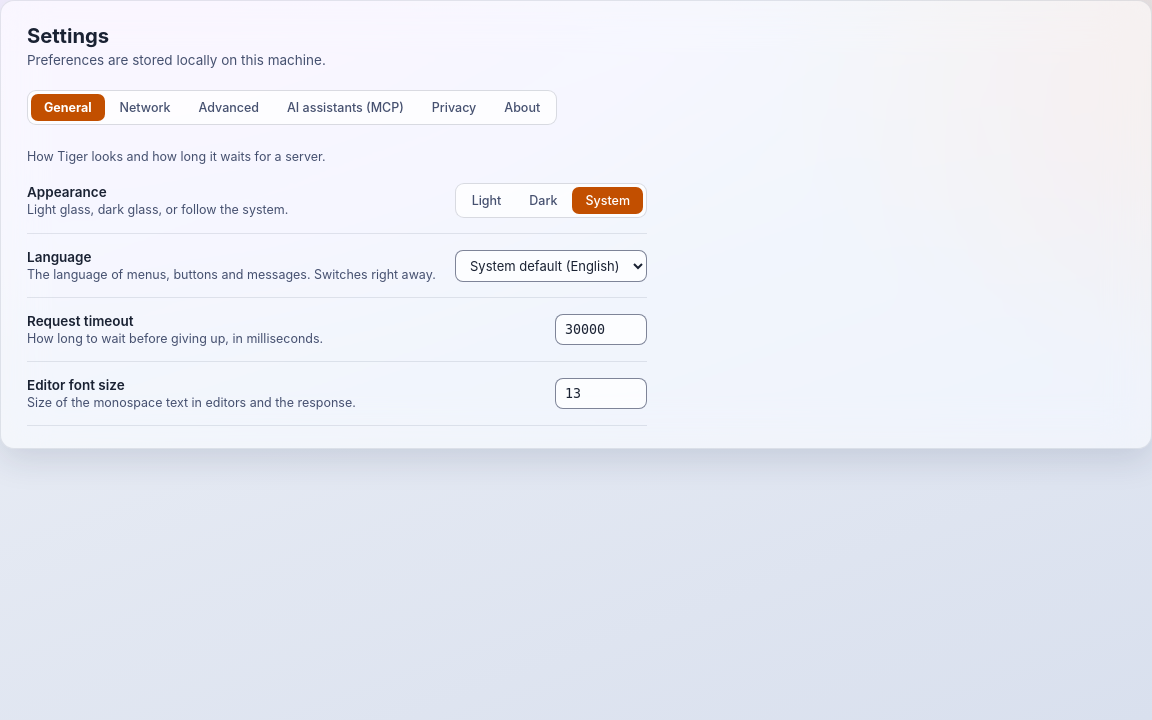
Test case: SettingsView extras › clear cookies button label flips to Cleared when tiger.clearCookies resolves
Step 1. Click the tab "Network" → (145, 108), box [107,94,184,121]
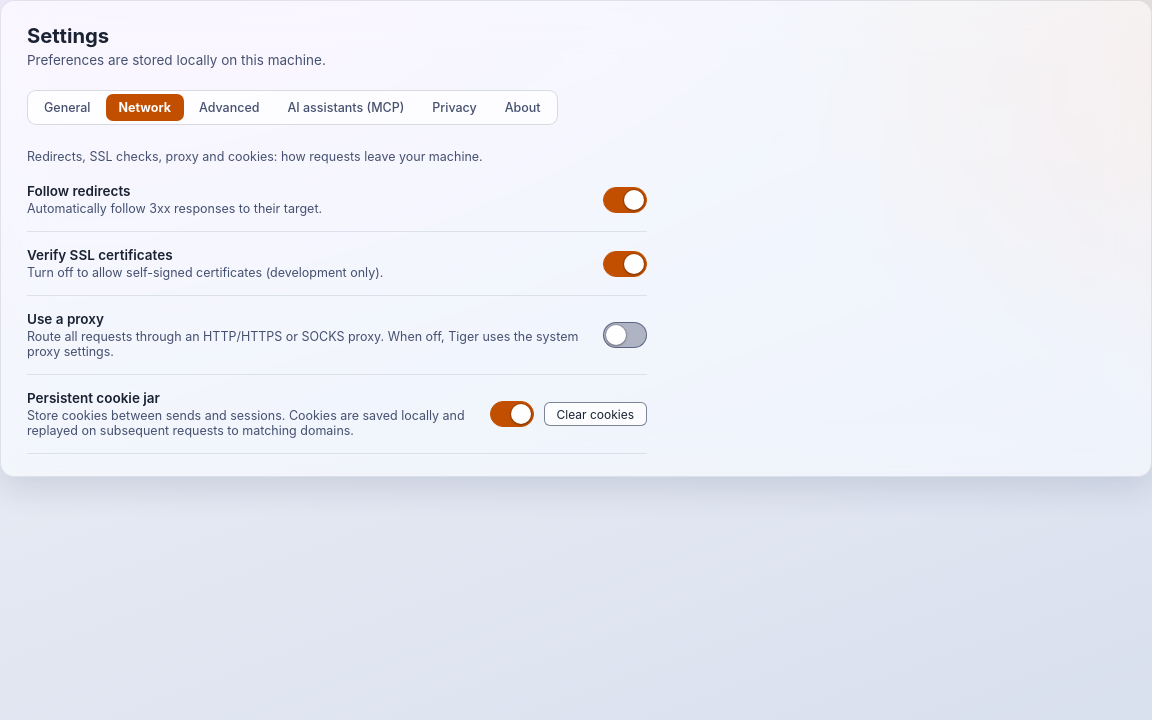
Step 2. Click the button "Clear cookies" → (595, 414), box [544,402,647,426]
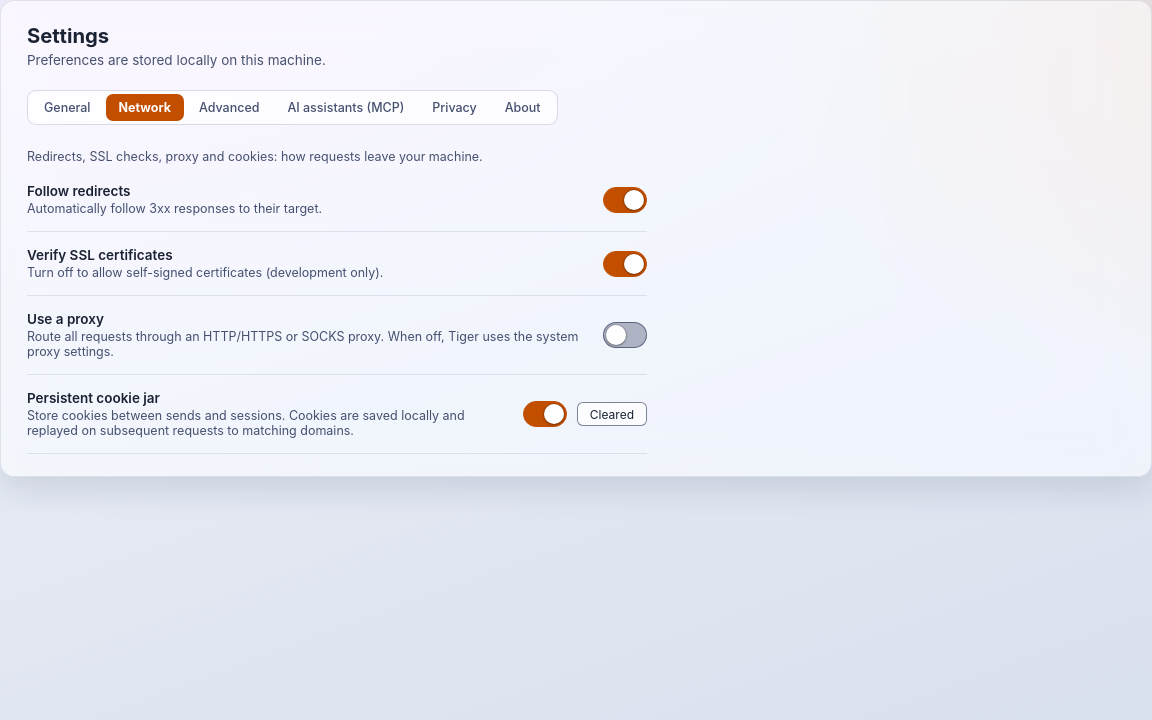
Result: the button "Cleared" is shown at [577,402,647,426]
